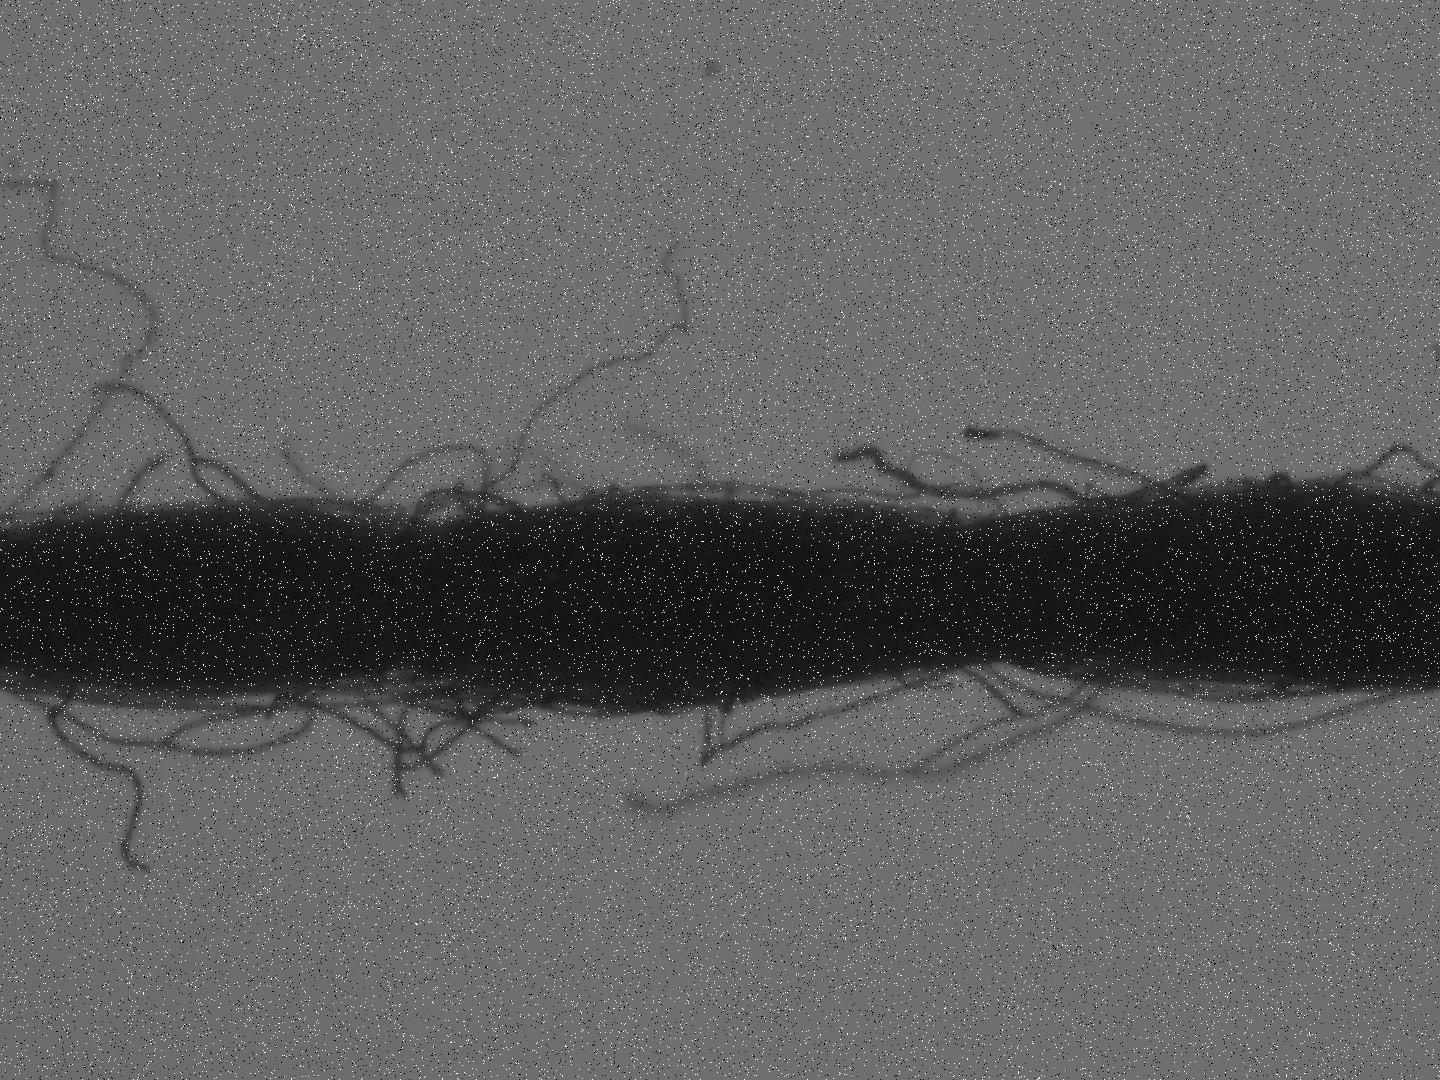loop_fiber: (694, 657, 983, 774), (7, 673, 333, 761), (370, 669, 559, 723), (185, 455, 323, 520), (964, 660, 1108, 720), (398, 479, 533, 538), (1116, 672, 1333, 704), (1332, 440, 1440, 505), (625, 484, 845, 511)
protruding_fiber: (963, 421, 1198, 514), (116, 448, 171, 509)
